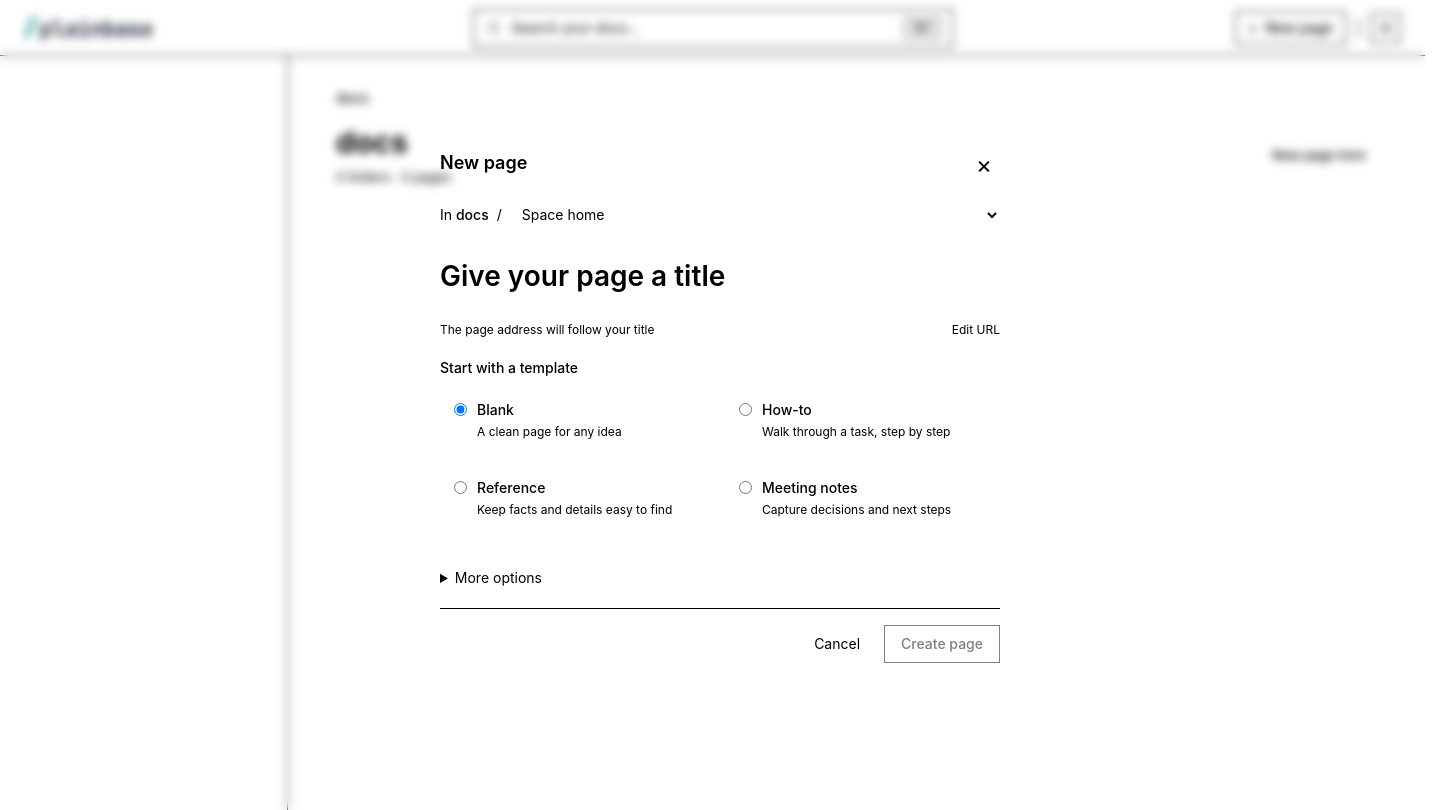
Test case: W6 new-page creation › a 202 degrade-to-proposal is treated as degraded — surfaces a notice, does NOT navigate
Check: the element that starts with "New page" is shown, box [440,147,1000,663]
Type "My New Page" into the field with placeholder "Give your page a title" at (720, 276), box [440,251,1000,302]
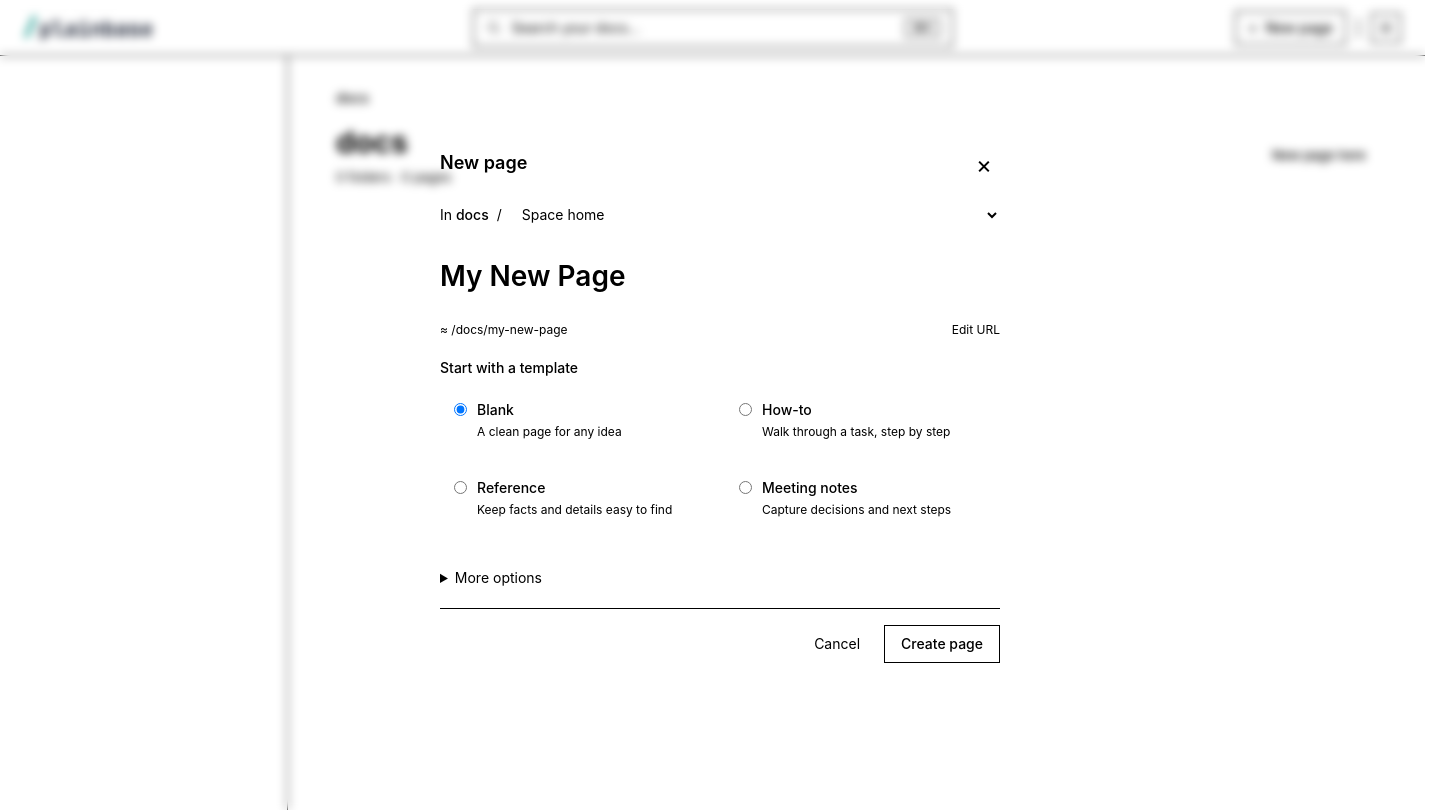
Click the button "Create page" at (942, 644), box [884,625,1000,663]
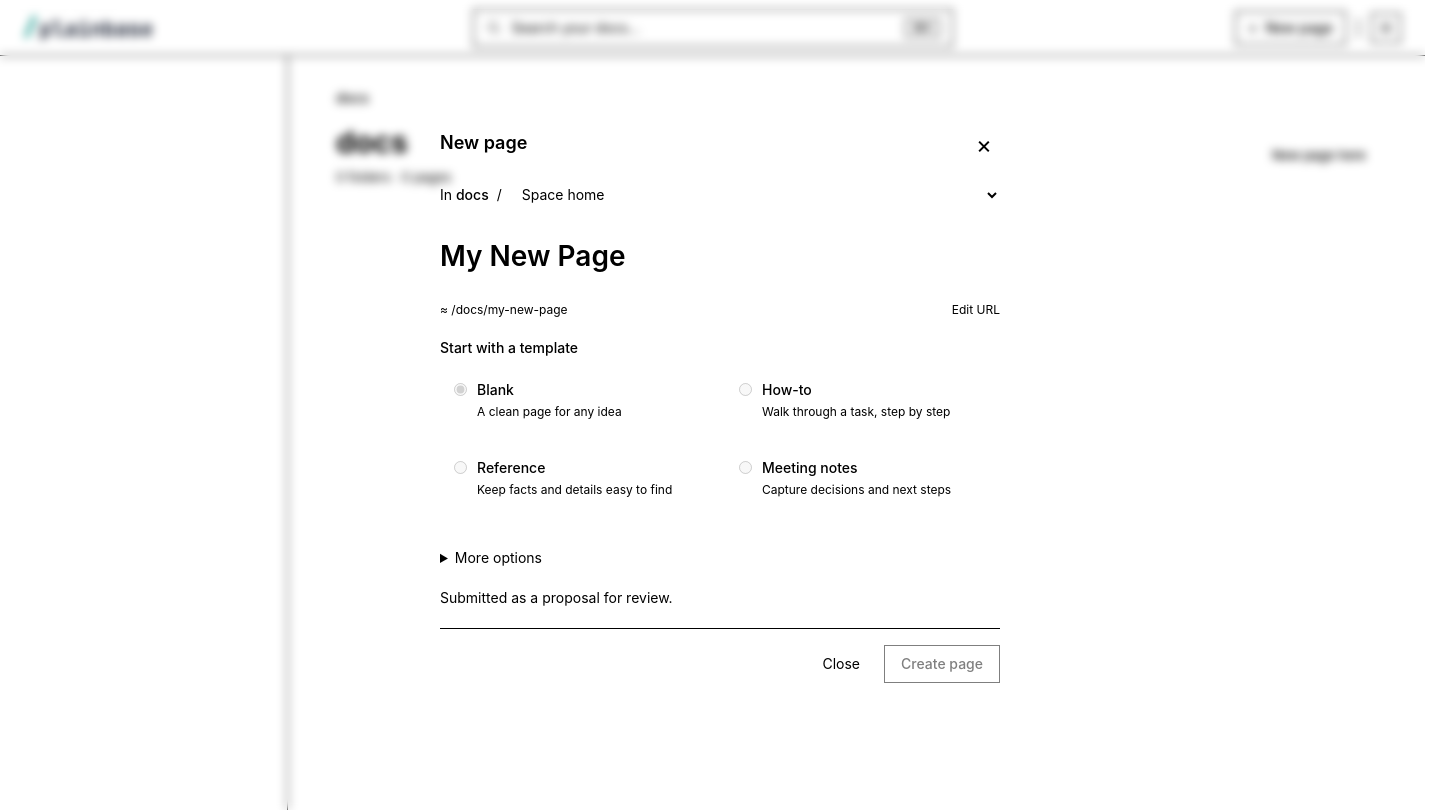
Check: the message "Submitted as a proposal for review." is shown, box [440,589,673,606]
Check: the button "Create page" is disabled, box [884,645,1000,683]
